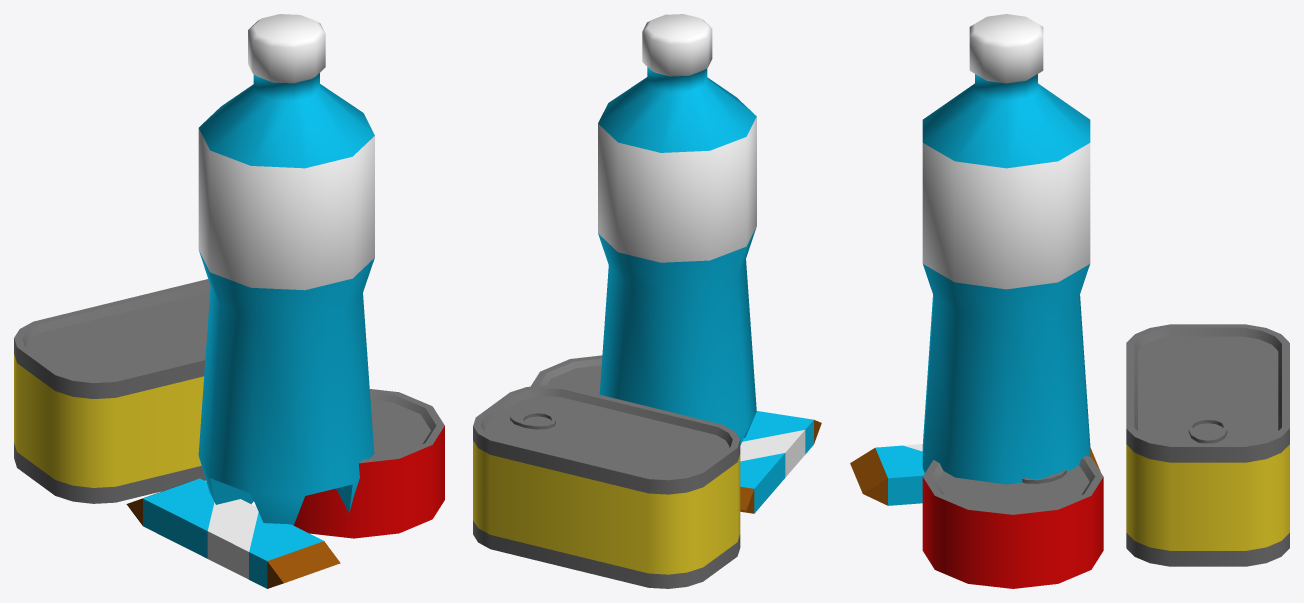
The model's file is food.FBX.
3 renders of one model, left to right at view 1: azimuth 30°, elevation 25°; view 2: azimuth 150°, elevation 25°; view 3: azimuth 270°, elevation 25°, orthographic. The views are drawn at different scales.
Visible parts, largest first — view 1: Cylinder01, Box01, Cylinder02, Box02; view 2: Cylinder01, Box01, Box02, Cylinder02; view 3: Cylinder01, Box01, Cylinder02, Box02.
Boxes of the visible parts, bbox=[...] form: Cylinder01: bbox=[198, 14, 374, 525]; Box01: bbox=[14, 279, 210, 503]; Cylinder02: bbox=[294, 389, 444, 538]; Box02: bbox=[126, 478, 340, 588]; Cylinder01: bbox=[598, 14, 756, 445]; Box01: bbox=[473, 385, 740, 588]; Box02: bbox=[740, 411, 821, 513]; Cylinder02: bbox=[530, 355, 602, 394]; Cylinder01: bbox=[922, 14, 1090, 484]; Box01: bbox=[1126, 324, 1289, 566]; Cylinder02: bbox=[922, 455, 1103, 588]; Box02: bbox=[850, 444, 1100, 505].
Size of the model in its own units: 16.85 by 26.54 by 21.66.
